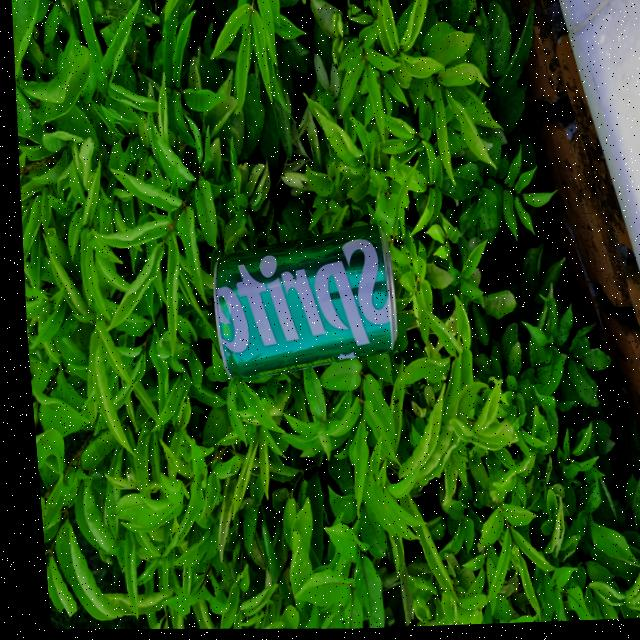Sprite: (198, 223, 394, 370)
